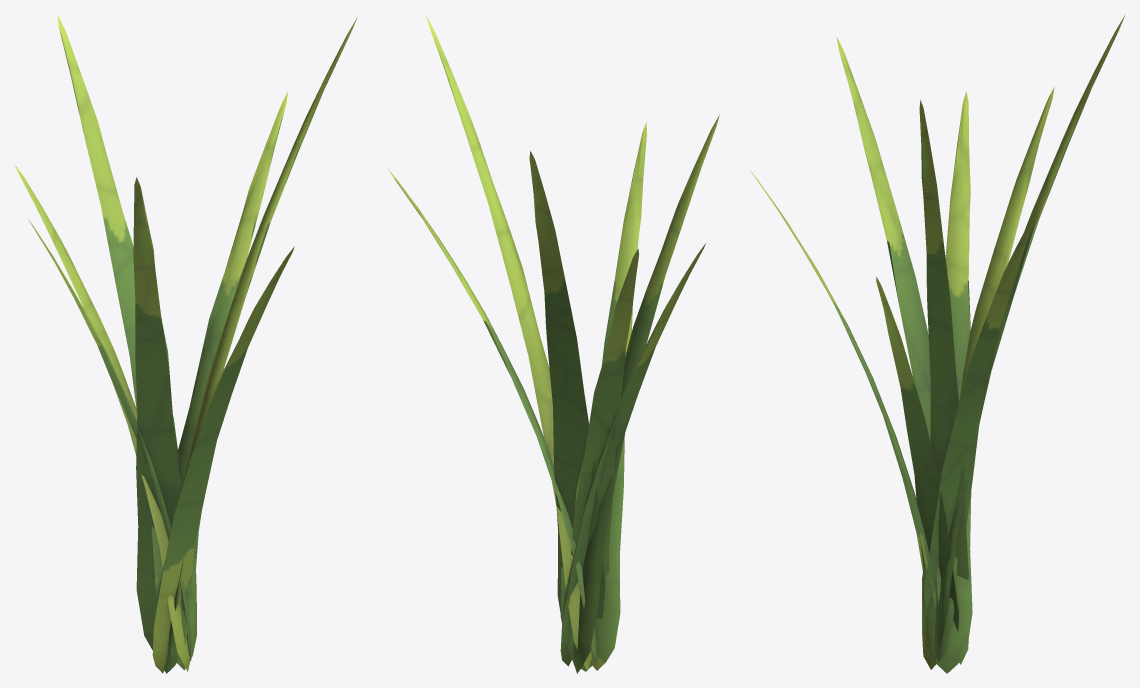
Rendered from V03_GrassTuft.fbx.
The picture shows the model from 3 angles, left to right: view 1: azimuth 30°, elevation 25°; view 2: azimuth 150°, elevation 25°; view 3: azimuth 270°, elevation 25°; orthographic projection. The views are drawn at different scales.
Parts seen in each view (by area): view 1: V03_GrassTuft; view 2: V03_GrassTuft; view 3: V03_GrassTuft.
Part boxes in pixels (<box>): V03_GrassTuft: <box>14,14,357,673</box>; V03_GrassTuft: <box>387,15,719,673</box>; V03_GrassTuft: <box>750,15,1124,673</box>.
Bounding box in the file's own units: 0.26 × 0.5 × 0.26.
